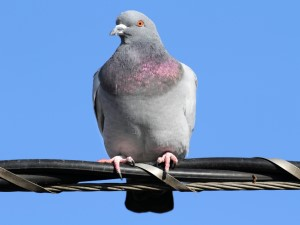pigeon: (88, 7, 199, 215)
